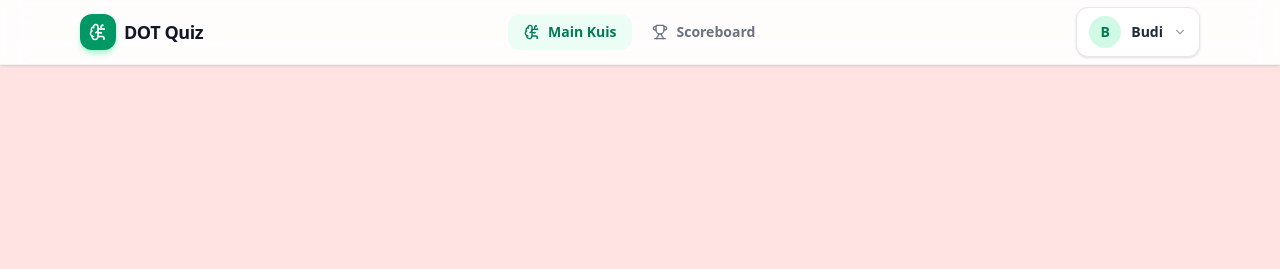
Test: Navbar Component › harus membuka dropdown saat tombol user diklik
The image size is (1280, 269).
Expected: the text "Profil Saya" is not shown
# Klik tombol user
Click the button "B Budi": (1138, 32) [1076,7,1200,57]
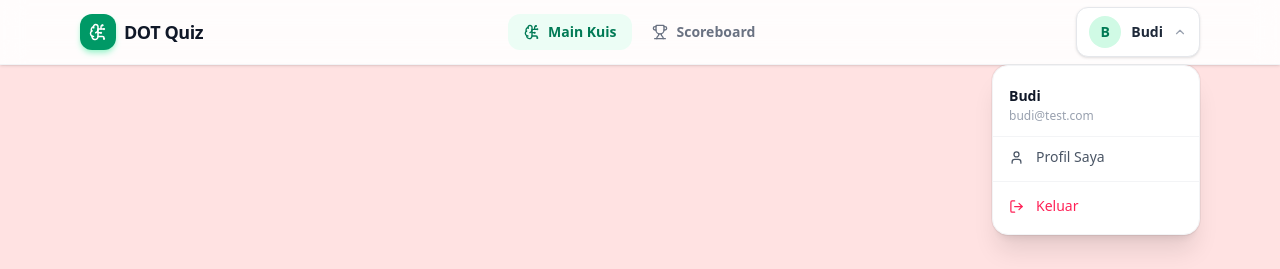
Expected: the link "Profil Saya" is shown, [1009,147,1105,166]
Expected: the button "Keluar" is shown, [993,186,1199,226]
